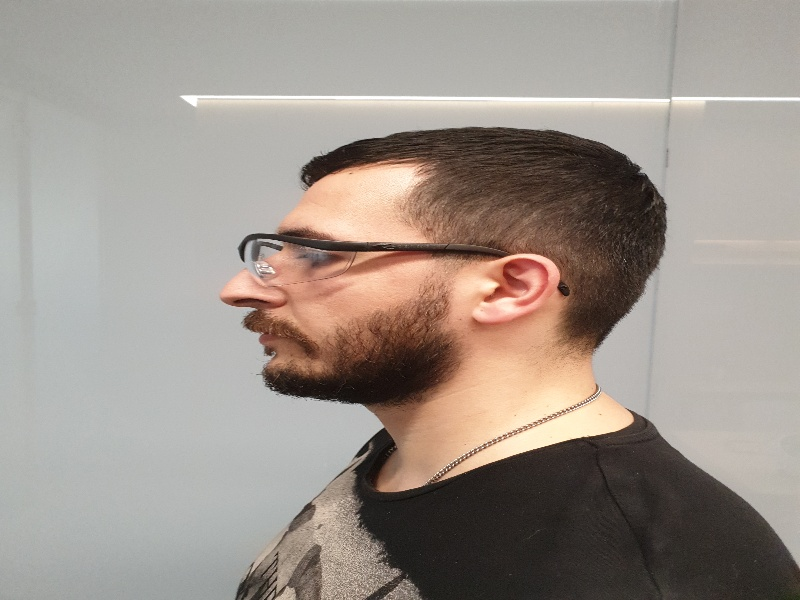Gozluk: (238, 232, 489, 288)
